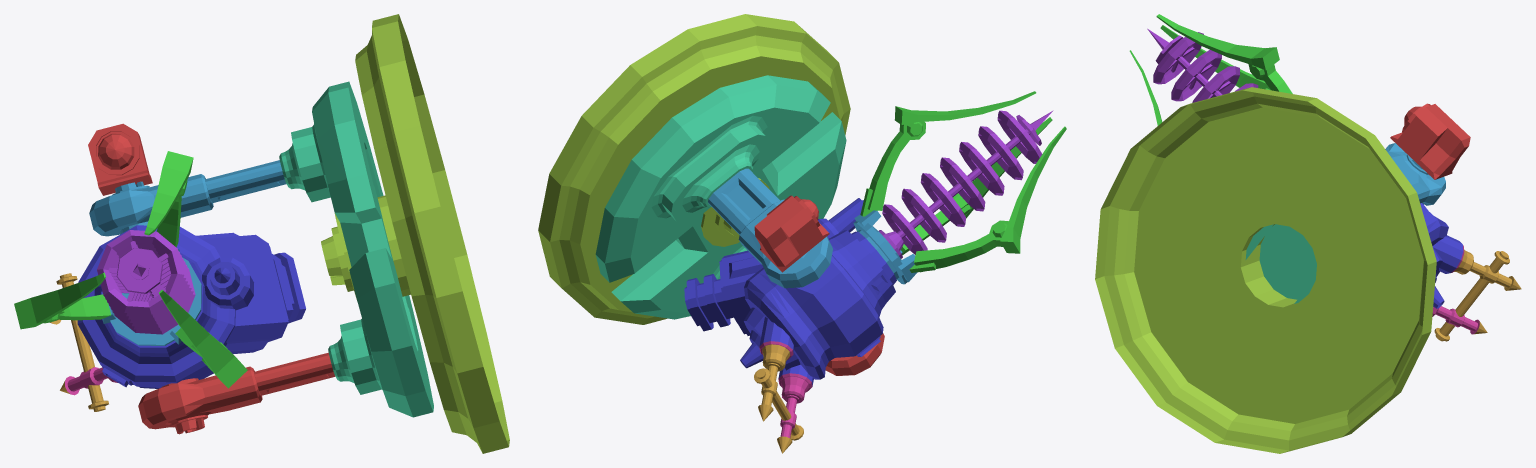
The model's file is seg_pump_partfield.glb.
3 renders of one model, left to right at view 1: azimuth 30°, elevation 25°; view 2: azimuth 150°, elevation 25°; view 3: azimuth 270°, elevation 25°, orthographic. The views are drawn at different scales.
Visible parts, largest first — view 1: world; view 2: world; view 3: world.
Part boxes in pixels (left/top/right/bottom): world: left=14, top=14, right=509, bottom=453; world: left=538, top=14, right=1066, bottom=453; world: left=1095, top=14, right=1521, bottom=453.
Bounding box in the file's own units: 1.68 × 1.24 × 1.47.
